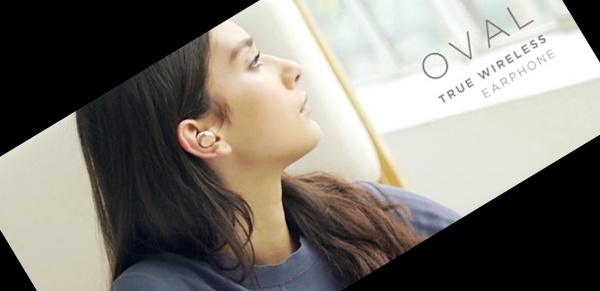earphone: (171, 107, 234, 175)
